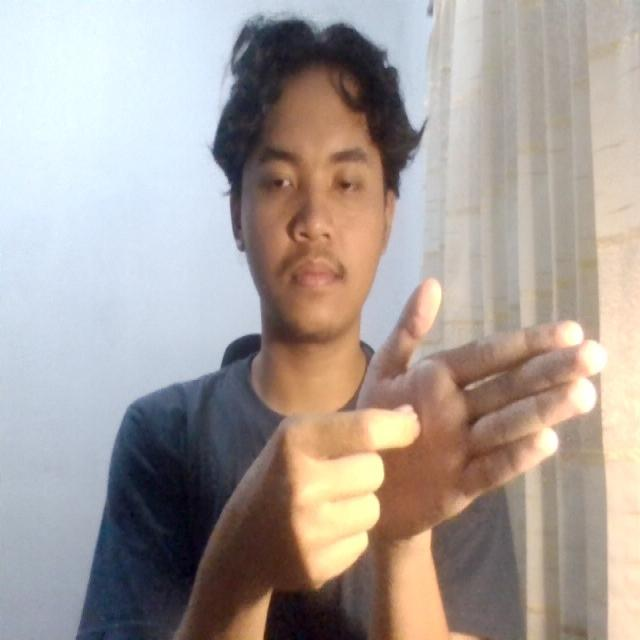L: (247, 254, 627, 590)
